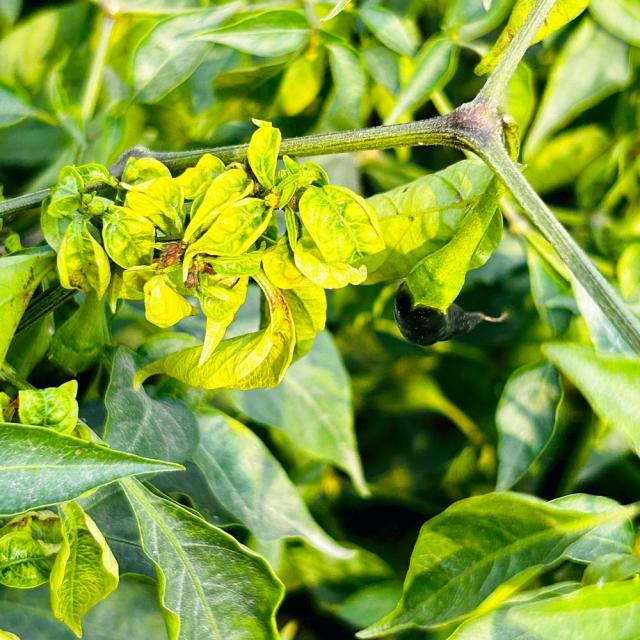Chilli_Leaf_Curl: (1, 1, 638, 638), (38, 116, 509, 392), (354, 489, 638, 638), (0, 418, 186, 520)
